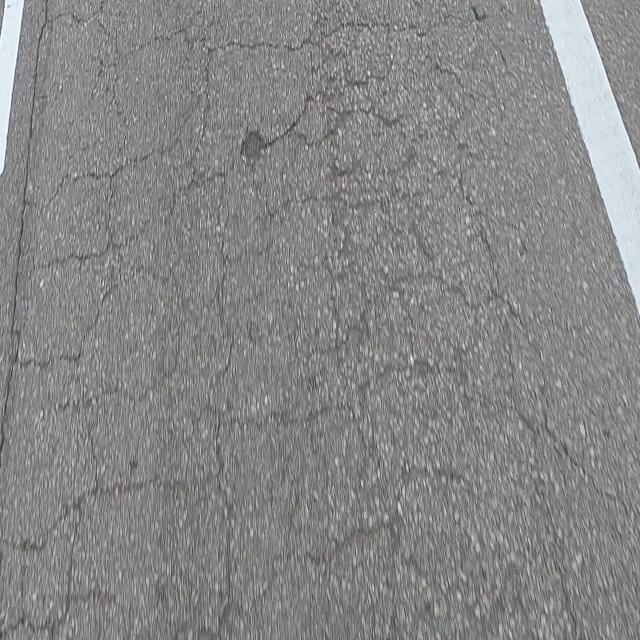Retak-Buaya: (0, 0, 619, 640)
